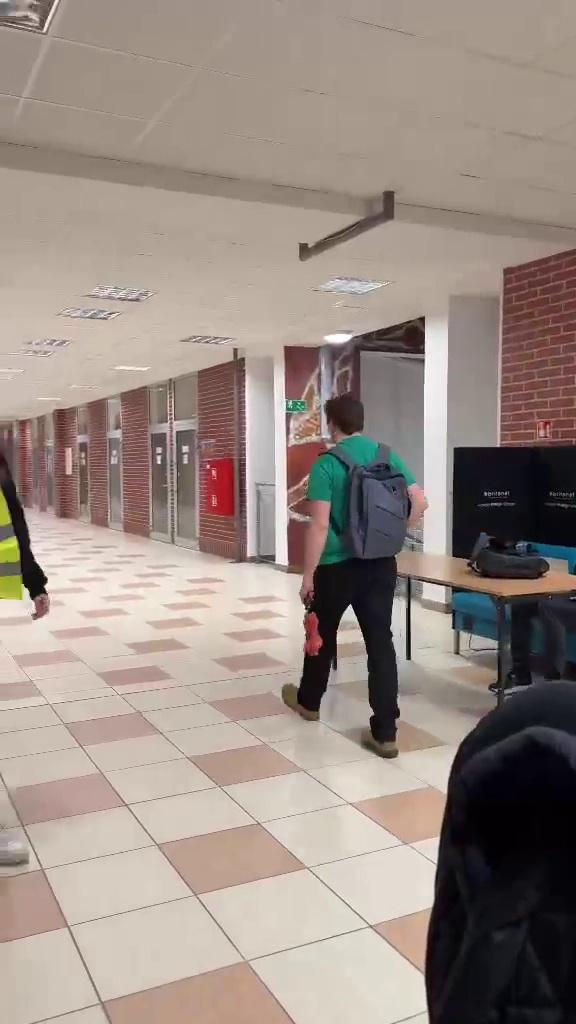no vest: (286, 390, 426, 753)
